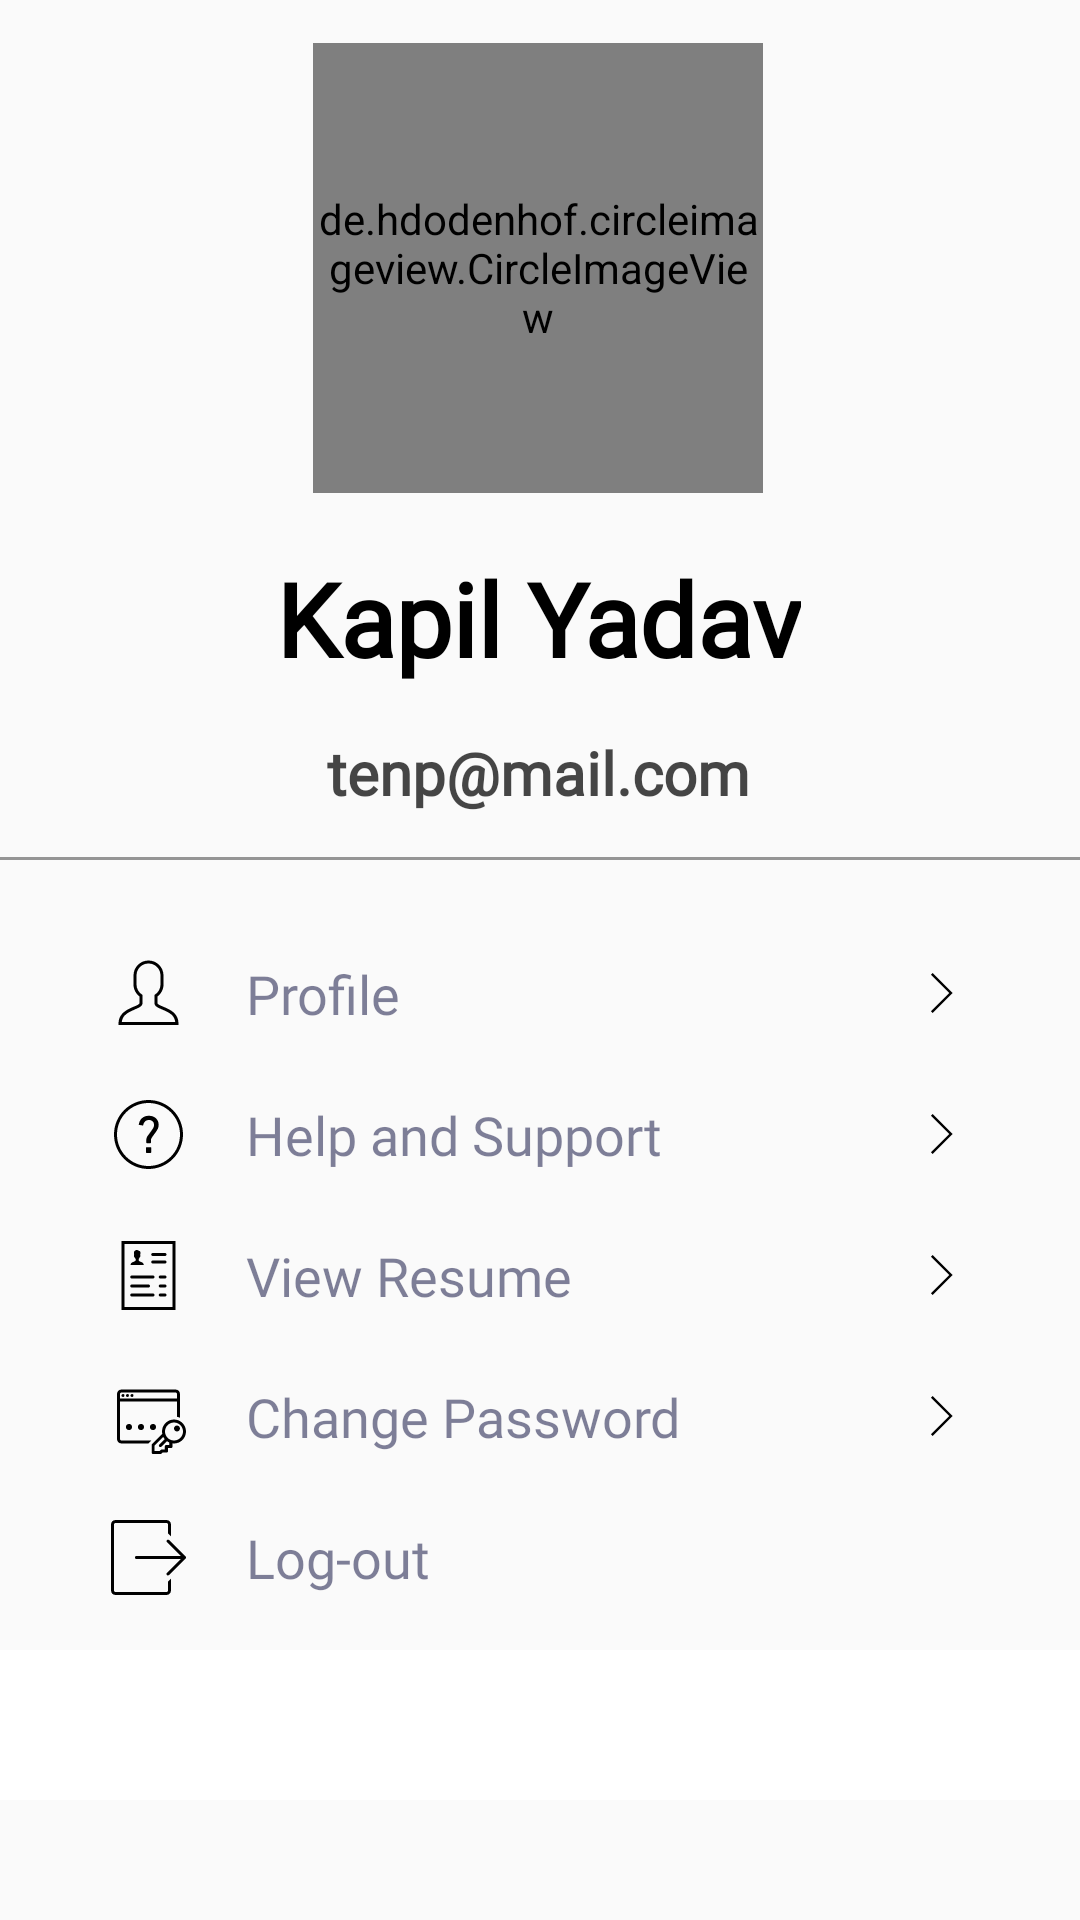

Where icons sit on this 1080px x 1920px app screen, as (x1, y1, x2, y2):
sign out: (111, 1520, 186, 1595)
